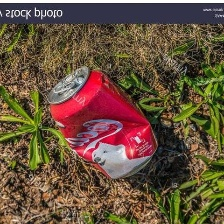can: (44, 62, 165, 182)
